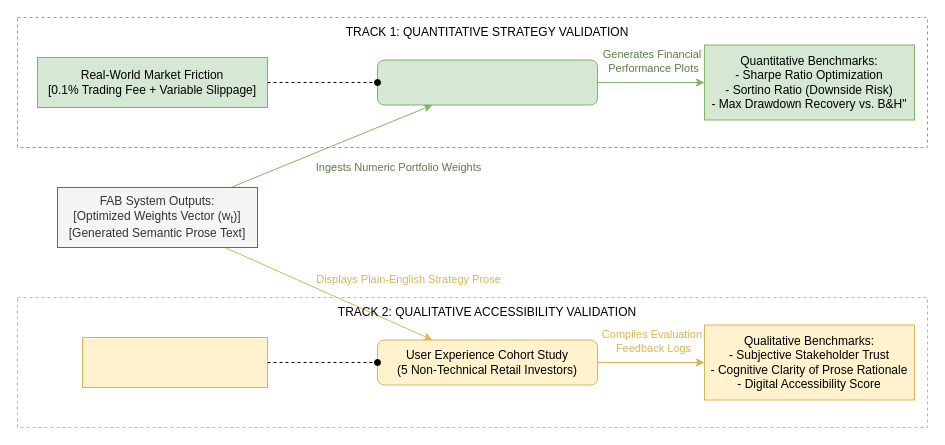
This 945x445 diagram has some shape labels left out. Each missing label, with the centre of its shape:
"Event-Driven Backtesting Module (Backtrader Simulation Engine)" belongs at point 487,82.
"Standardized Assessment [System Usability Scale (SUS)]" belongs at point 175,362.
